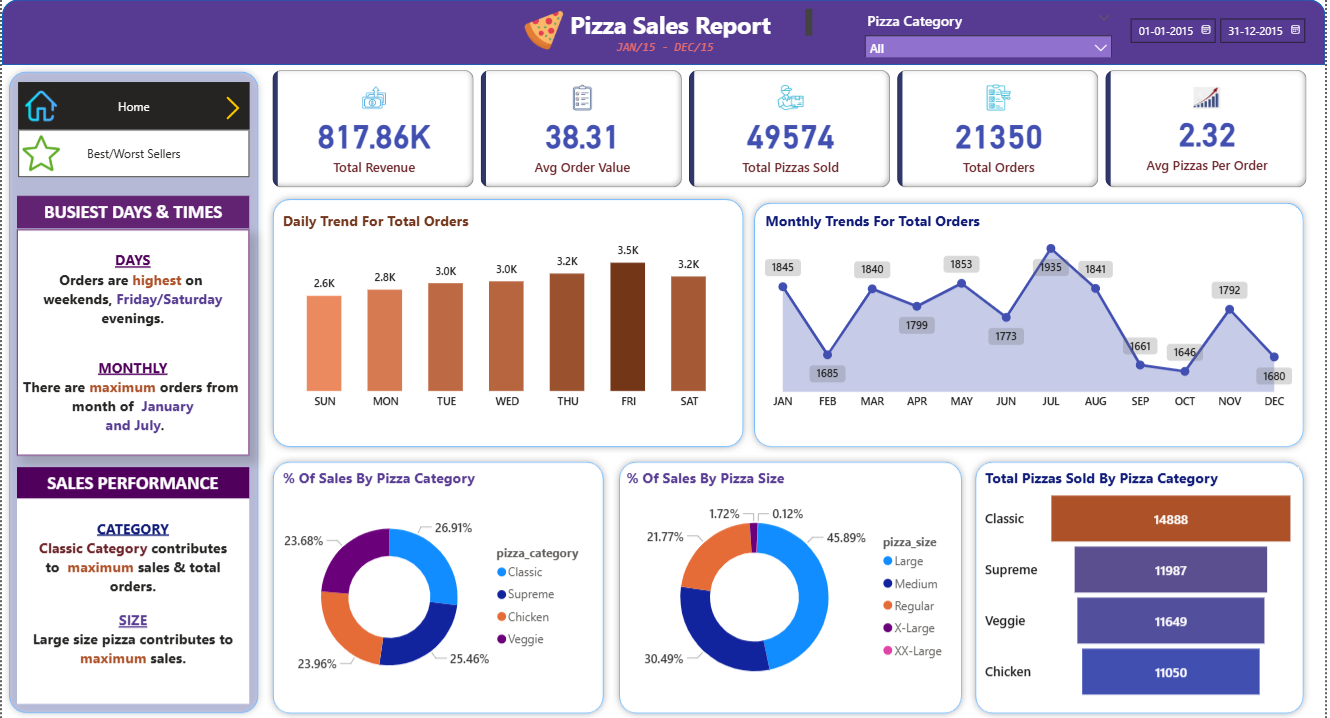

Layout of this report page (visuals, bound fields, positions):
{"tool":"powerbi","page":{"name":"Home","canvas":[1500,820],"ordinal":0},"visuals":[{"type":"cardVisual","fields":{"Data":["pizza_sales.Total Revenue","pizza_sales.Avg Order Value","pizza_sales.Total Pizaas Sold","pizza_sales.Total Orders","pizza_sales.Avg Pizzas Per Order"]},"box":[301.5,77.6,1182.1,143.3],"z":0},{"type":"shape","box":[0,2.9,1500,74.3],"z":1000},{"type":"textbox","box":[598.6,8.6,324.3,42.9],"z":2000},{"type":"textbox","box":[691.4,42.9,138.6,34.3],"z":3000},{"type":"image","box":[587.1,8.6,55.7,58.6],"z":4000},{"type":"shape","box":[298.5,220.9,549.3,297],"z":5000},{"type":"columnChart","title":"Daily Trend For Total Orders","fields":{"Category":["pizza_sales.Order Day"],"Y":["pizza_sales.Total Orders"]},"box":[313.4,241.8,519.4,234.3],"z":6000},{"type":"shape","box":[844.8,225.4,638.8,292.5],"z":7000},{"type":"areaChart","title":"Monthly Trends For Total Orders","fields":{"Category":["pizza_sales.Order Month"],"Y":["pizza_sales.Total Orders"]},"box":[859.7,241.8,607.5,234.3],"z":8000},{"type":"shape","box":[1095.5,517.9,388.1,301.5],"z":9000},{"type":"shape","box":[691,517.9,404.5,301.5],"z":10000},{"type":"shape","box":[298.5,517.9,391,301.5],"z":11000},{"type":"donutChart","title":"% Of Sales By Pizza Category","fields":{"Category":["pizza_sales.pizza_category"],"Y":["pizza_sales.Total Revenue"]},"box":[313.4,532.8,361.2,273.1],"z":12000},{"type":"donutChart","title":"% Of Sales By Pizza Size","fields":{"Y":["pizza_sales.Total Revenue"],"Category":["pizza_sales.pizza_size"]},"box":[703,532.8,380.6,273.1],"z":13000},{"type":"funnel","title":"Total Pizzas Sold By Pizza Category","fields":{"Y":["pizza_sales.Total Pizzas Sold"],"Category":["pizza_sales.pizza_category"]},"box":[1109,532.8,361.2,268.7],"z":14000},{"type":"shape","box":[0,77.1,298.6,742.9],"z":15000},{"type":"textbox","box":[17.1,225.7,262.9,37.1],"z":16000},{"type":"textbox","box":[17.1,262.9,262.9,255.7],"z":17000},{"type":"textbox","box":[17.1,532.9,262.9,35.7],"z":18000},{"type":"textbox","box":[17.1,568.6,262.9,232.9],"z":19000},{"type":"slicer","fields":{"Values":["pizza_sales.pizza_category"]},"box":[967.1,10,300,58.6],"z":20000},{"type":"slicer","fields":{"Values":["pizza_sales.order_date"]},"box":[1267.1,14.3,217.1,50],"z":21000},{"type":"pageNavigator","box":[18,96,262,54],"z":22000},{"type":"pageNavigator","box":[18,150,262,54],"z":23000},{"type":"image","box":[244,100,36,50],"z":24000},{"type":"image","box":[18,100,52,46],"z":25000},{"type":"image","box":[18,150,52,54],"z":26000}]}

Visuals, with their boxes in screenshot pixels (x1, y1, x2, y2), scaled from the page's 1500x820 canvas onto the 1330x718 screenshot:
cardVisual - pizza_sales.Total Revenue x pizza_sales.Avg Order Value: bbox(267, 68, 1315, 193)
shape: bbox(0, 3, 1329, 68)
textbox: bbox(531, 8, 818, 45)
textbox: bbox(613, 38, 736, 68)
image: bbox(521, 8, 570, 59)
shape: bbox(265, 193, 752, 453)
"Daily Trend For Total Orders" columnChart: bbox(278, 212, 738, 417)
shape: bbox(749, 197, 1315, 453)
"Monthly Trends For Total Orders" areaChart: bbox(762, 212, 1301, 417)
shape: bbox(971, 453, 1315, 717)
shape: bbox(613, 453, 971, 717)
shape: bbox(265, 453, 611, 717)
"% Of Sales By Pizza Category" donutChart: bbox(278, 467, 598, 706)
"% Of Sales By Pizza Size" donutChart: bbox(623, 467, 961, 706)
"Total Pizzas Sold By Pizza Category" funnel: bbox(983, 467, 1304, 702)
shape: bbox(0, 68, 265, 717)
textbox: bbox(15, 198, 248, 230)
textbox: bbox(15, 230, 248, 454)
textbox: bbox(15, 467, 248, 498)
textbox: bbox(15, 498, 248, 702)
slicer - pizza_sales.pizza_category: bbox(857, 9, 1123, 60)
slicer - pizza_sales.order_date: bbox(1123, 13, 1316, 56)
pageNavigator: bbox(16, 84, 248, 131)
pageNavigator: bbox(16, 131, 248, 179)
image: bbox(216, 88, 248, 131)
image: bbox(16, 88, 62, 128)
image: bbox(16, 131, 62, 179)
